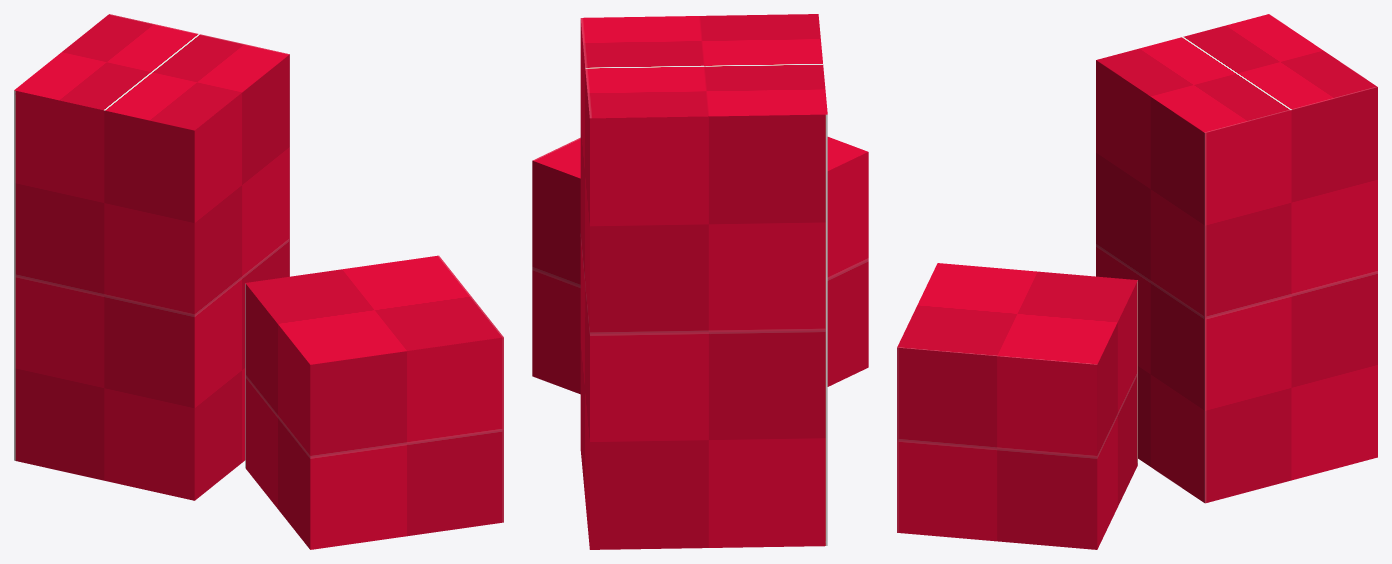
File: ground.glb
3 views of the same model, side by side, from view 1: azimuth 30°, elevation 25°; view 2: azimuth 150°, elevation 25°; view 3: azimuth 270°, elevation 25° (orthographic). The views are drawn at different scales.
Visible parts, largest first — view 1: Cube, Cube.001; view 2: Cube, Cube.001; view 3: Cube, Cube.001.
Boxes of the visible parts, x1,y1,x2,y2 form: Cube: [14, 14, 289, 500]; Cube.001: [245, 255, 503, 549]; Cube: [580, 14, 827, 549]; Cube.001: [532, 137, 868, 394]; Cube: [1096, 14, 1377, 503]; Cube.001: [897, 263, 1137, 549].
Size of what is drawn, in the model's own units: 3.83 by 4 by 4.71.
Materials: 1 (1 with a texture image).
